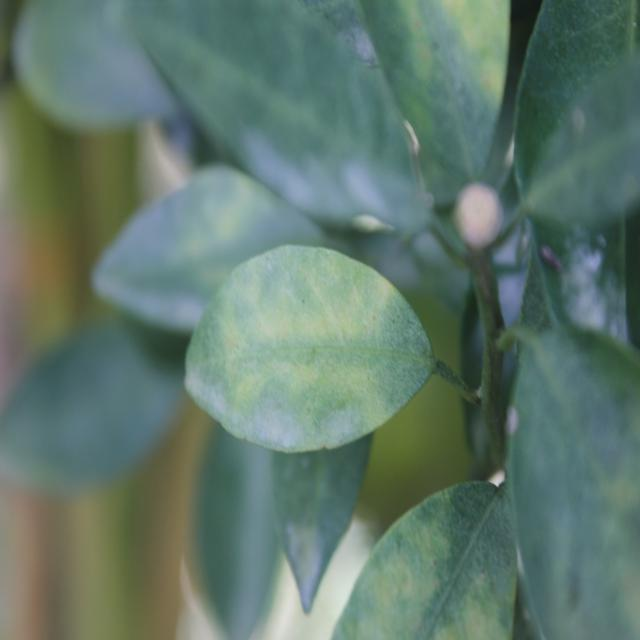blackspot: (188, 256, 430, 452), (342, 484, 515, 640), (393, 0, 482, 124)
